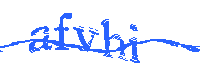a: (29, 24, 51, 52)
f: (54, 11, 73, 51)
h: (100, 18, 128, 63)
i: (129, 24, 143, 64)
v: (73, 24, 99, 52)
